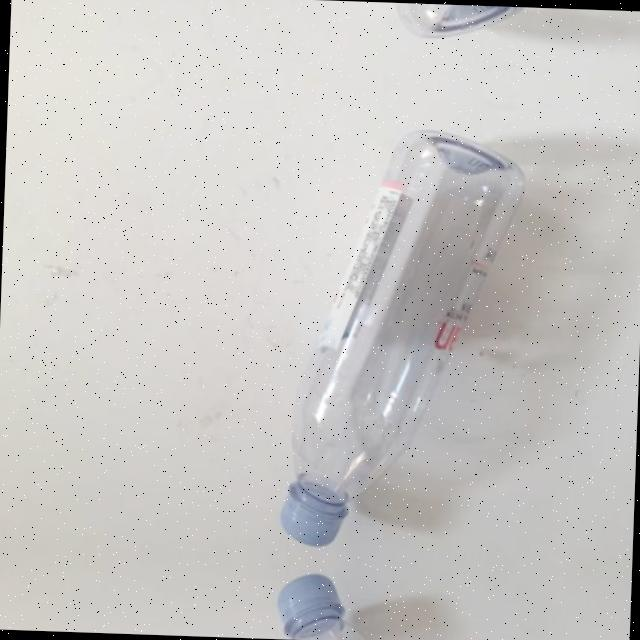Plastic: (186, 101, 530, 552), (182, 570, 513, 640), (202, 0, 533, 61)
